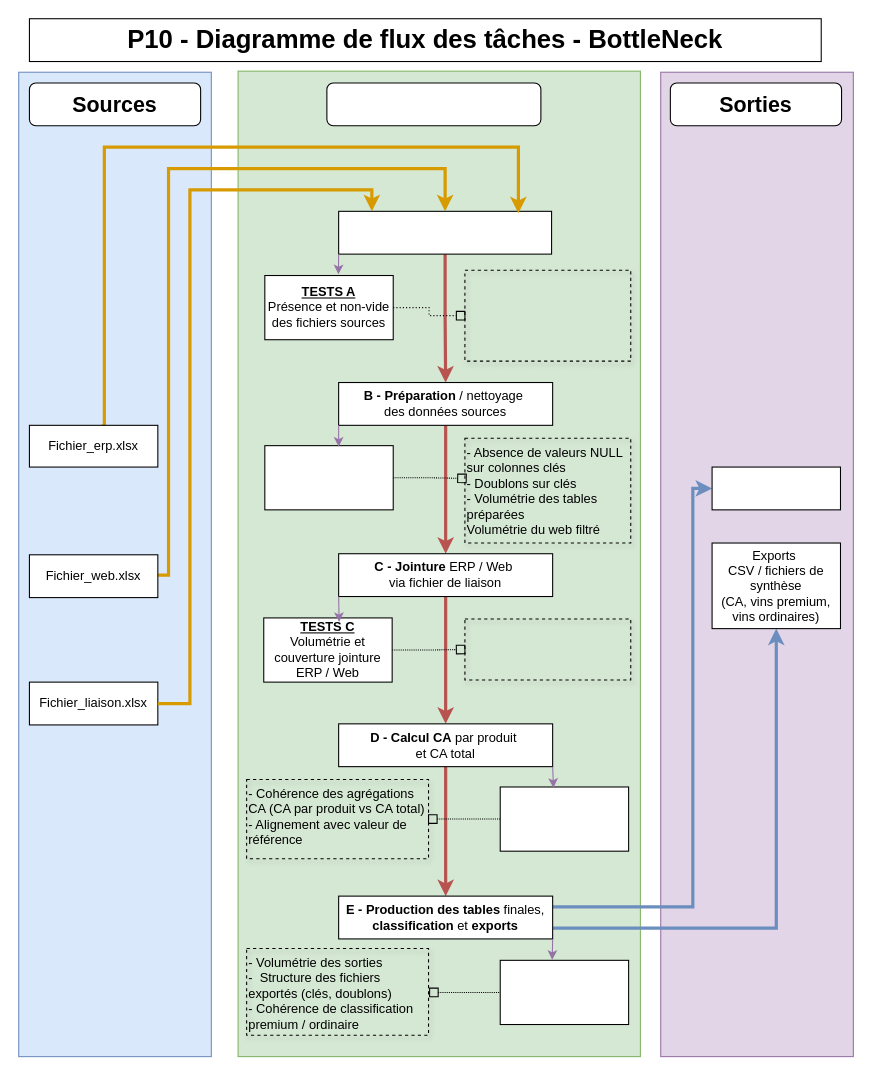
Image size: 872x1075. Some labels were removed from this diagram. Here are the shapes that lost their labels. From the top down, the centre of each, then its label:
At pixel 433 104: "Etapes".
At pixel 445 232: "A - Ingestion des données ERP / Web / Liaison".
At pixel 548 317: "- Présence des 3 fichiers - Non vide - Vérification schéma des fichiers sources".
At pixel 328 477: "TESTS B Volumétrie et qualité des tables préparées".
At pixel 775 488: "Tables finales analytiques".
At pixel 548 650: "- Couverture de la jointure via volumétrie - Volumétrie avant/après".
At pixel 564 818: "TESTS D Indicateurs de CA".
At pixel 564 992: "TESTS E Intégrité des exports et classification premium / ordinaire".
